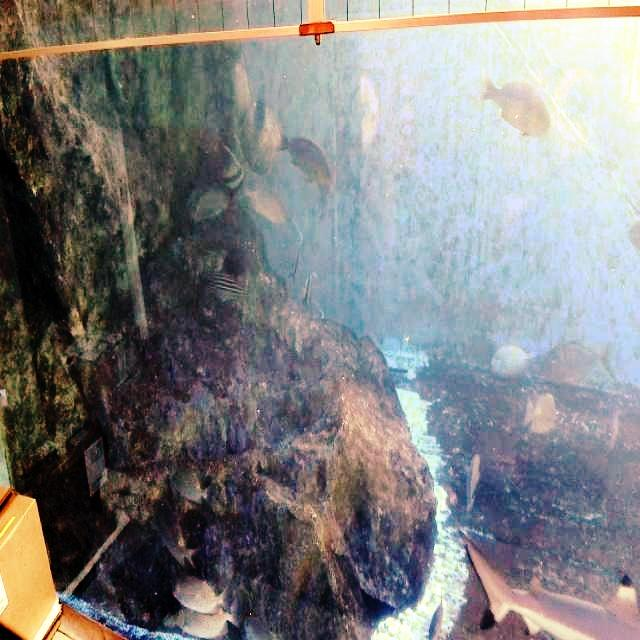Plectorhinchus lessonii: (203, 258, 253, 316)
angelfish: (216, 132, 250, 206), (299, 270, 323, 316), (283, 241, 307, 286)
gold snapper: (168, 562, 244, 620), (484, 334, 540, 392), (518, 390, 568, 444), (456, 441, 484, 524)
shark: (451, 507, 640, 640)
